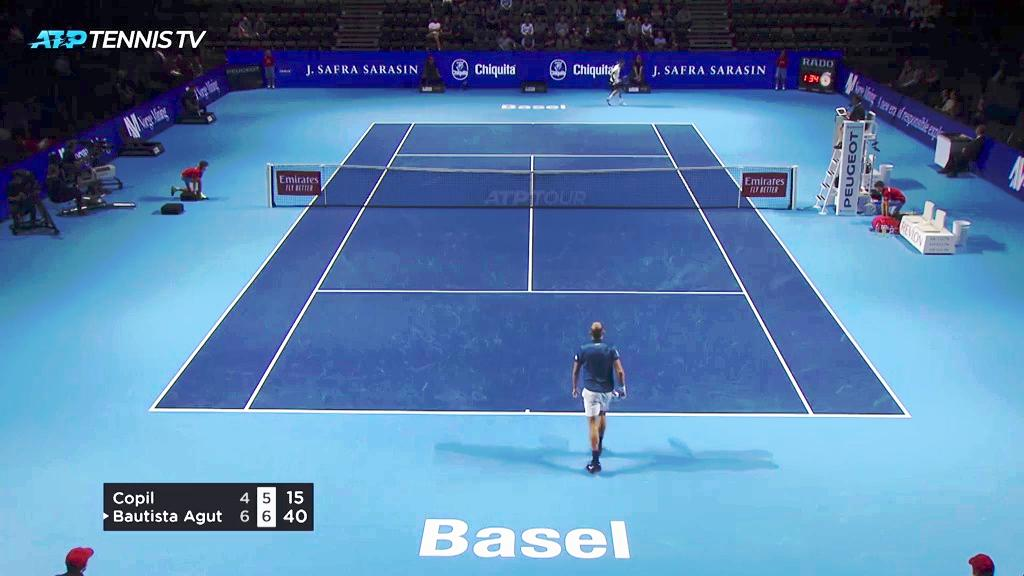tennis-court: (147, 122, 912, 417)
